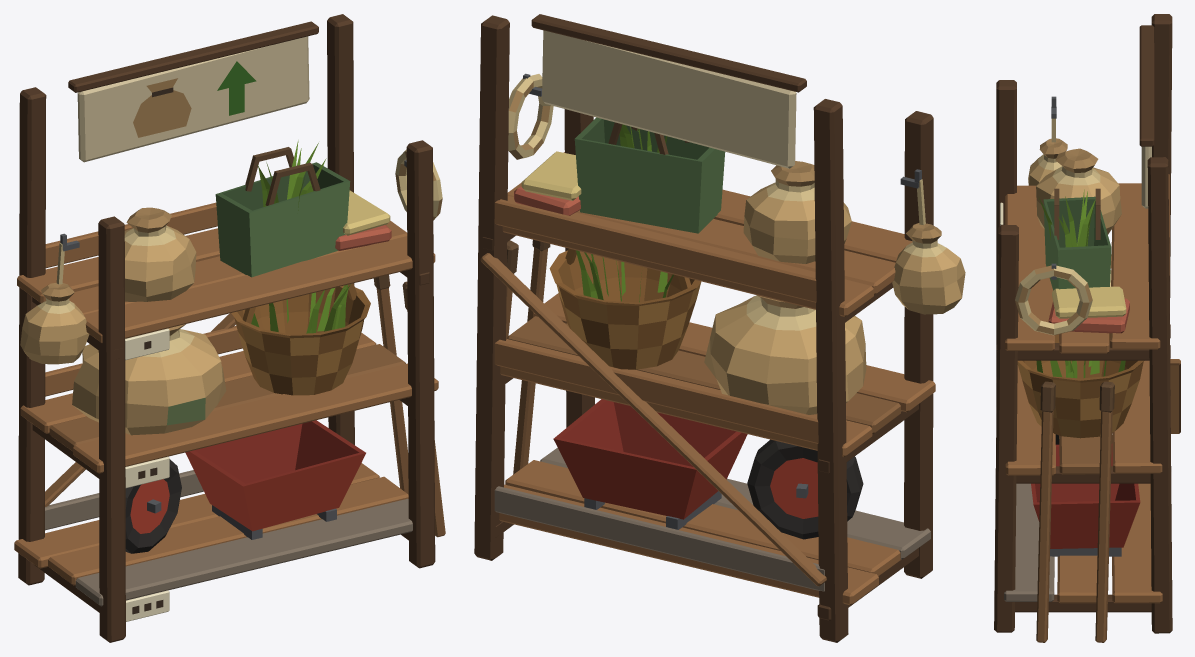
File: CapacityUpgrade_Stand.fbx
3 views of the same model, side by side, from view 1: azimuth 30°, elevation 25°; view 2: azimuth 150°, elevation 25°; view 3: azimuth 270°, elevation 25° (orthographic). The views are drawn at different scales.
Visible parts, largest first — view 1: CapacityUpgrade_Stand; view 2: CapacityUpgrade_Stand; view 3: CapacityUpgrade_Stand.
Boxes of the visible parts, box(x1,y1,x2,y2) form: CapacityUpgrade_Stand: box(14, 14, 445, 642); CapacityUpgrade_Stand: box(474, 14, 965, 642); CapacityUpgrade_Stand: box(994, 14, 1180, 642).
Bounding box in the file's own units: 1.56 × 1.78 × 0.6323.
1 material, 1 textured.
